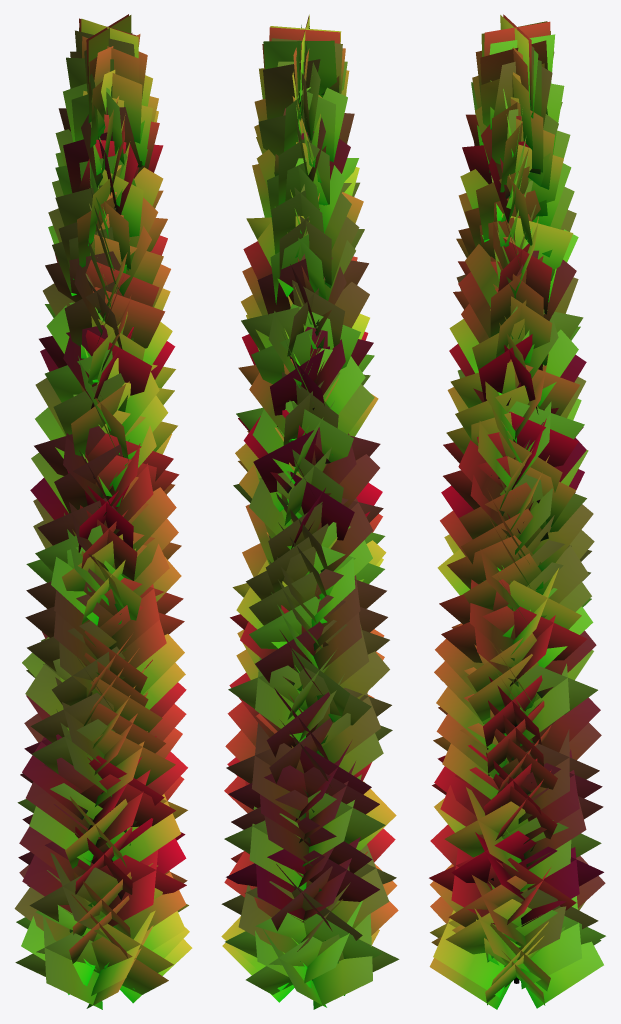
The model's file is URP_P4_Tree_9_LOD_0.fbx.
3 views of the same model, side by side, from view 1: azimuth 30°, elevation 25°; view 2: azimuth 150°, elevation 25°; view 3: azimuth 270°, elevation 25° (orthographic).
Parts seen in each view (by area): view 1: Tree_9_LOD_0; view 2: Tree_9_LOD_0; view 3: Tree_9_LOD_0.
Boxes of the visible parts, x1,y1,x2,y2 form: Tree_9_LOD_0: [14, 14, 192, 1009]; Tree_9_LOD_0: [221, 14, 399, 1009]; Tree_9_LOD_0: [429, 14, 605, 1009].
Size of the model in its own units: 211 by 1275 by 211.
